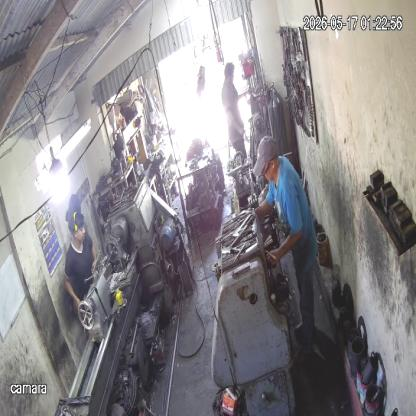lentes: (262, 158, 272, 178)
